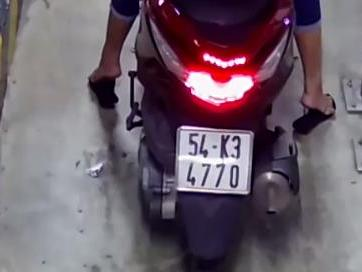num_plate: (175, 126, 251, 194)
